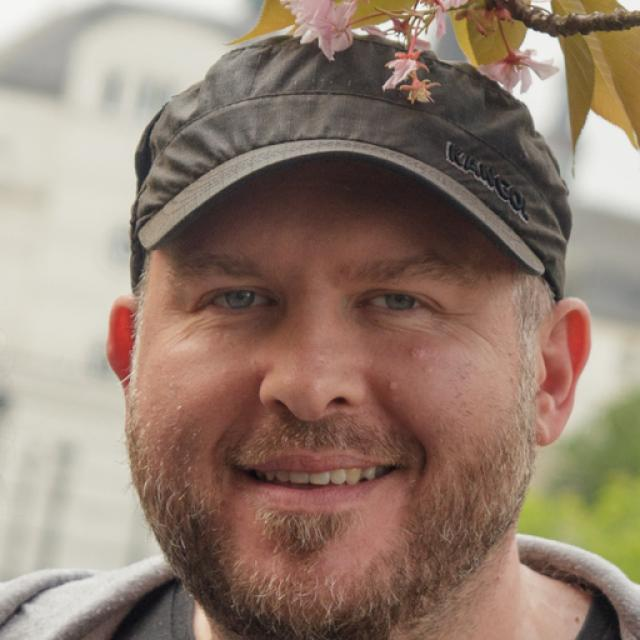Acne: (404, 342, 435, 382), (378, 371, 405, 412)
